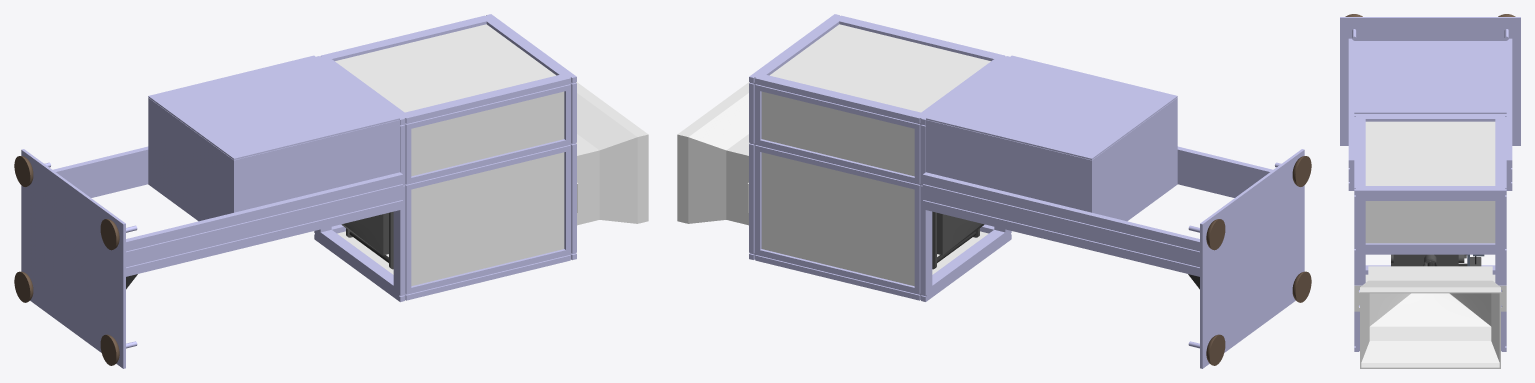
The model's file is Unnamed-Assemblage_Remplissage.gltf.
3 views of the same model, side by side, from view 1: azimuth 30°, elevation 25°; view 2: azimuth 150°, elevation 25°; view 3: azimuth 270°, elevation 25° (orthographic). The views are drawn at different scales.
Parts seen in each view (by area): view 1: Cadre_Machine_Remplissage002, Cadre_Machine_Remplissage001, Cadre_Machine_Remplissage006, plaque_Laterale_remplissage001, Cadre_Machine_Remplissage005, Plaque_deriere_Remplissage, Tremie_Remplissage, Plaque_Lateral_2_Remplissage001, M\X2\00E9\X0\canisme_Remplissage001; view 2: Cadre_Machine_Remplissage002, Cadre_Machine_Remplissage001, Cadre_Machine_Remplissage006, plaque_Laterale_remplissage, Cadre_Machine_Remplissage005, Plaque_deriere_Remplissage, Tremie_Remplissage, Plaque_Lateral_2_Remplissage, M\X2\00E9\X0\canisme_Remplissage001; view 3: Tremie_Remplissage, Cadre_Machine_Remplissage005, Cadre_Machine_Remplissage001, Plaque_deriere_Remplissage, Cadre_Machine_Remplissage002, Plaque_Haut_Remplissage, M\X2\00E9\X0\canisme_Remplissage.
Boxes of the visible parts, x1,y1,x2,y2 form: Cadre_Machine_Remplissage002: (14, 146, 403, 368); Cadre_Machine_Remplissage001: (314, 14, 576, 301); Cadre_Machine_Remplissage006: (148, 97, 399, 221); plaque_Laterale_remplissage001: (411, 152, 564, 286); Cadre_Machine_Remplissage005: (148, 55, 399, 159); Plaque_deriere_Remplissage: (335, 24, 556, 112); Tremie_Remplissage: (576, 82, 648, 225); Plaque_Lateral_2_Remplissage001: (411, 91, 564, 176); M\X2\00E9\X0\canisme_Remplissage001: (341, 213, 388, 255); Cadre_Machine_Remplissage002: (922, 146, 1311, 368); Cadre_Machine_Remplissage001: (749, 14, 1011, 301); Cadre_Machine_Remplissage006: (926, 97, 1177, 221); plaque_Laterale_remplissage: (761, 152, 914, 286); Cadre_Machine_Remplissage005: (926, 55, 1177, 159); Plaque_deriere_Remplissage: (769, 24, 990, 112); Tremie_Remplissage: (677, 82, 749, 225); Plaque_Lateral_2_Remplissage: (761, 91, 914, 176); M\X2\00E9\X0\canisme_Remplissage001: (937, 213, 984, 255); Tremie_Remplissage: (1354, 266, 1506, 368); Cadre_Machine_Remplissage005: (1354, 41, 1506, 113); Cadre_Machine_Remplissage001: (1354, 114, 1506, 351); Plaque_deriere_Remplissage: (1365, 121, 1495, 185); Cadre_Machine_Remplissage002: (1340, 14, 1520, 190); Plaque_Haut_Remplissage: (1365, 201, 1495, 243); M\X2\00E9\X0\canisme_Remplissage: (1391, 254, 1481, 266).
Size of the model in its own units: 1.97 by 0.6435 by 0.64.
